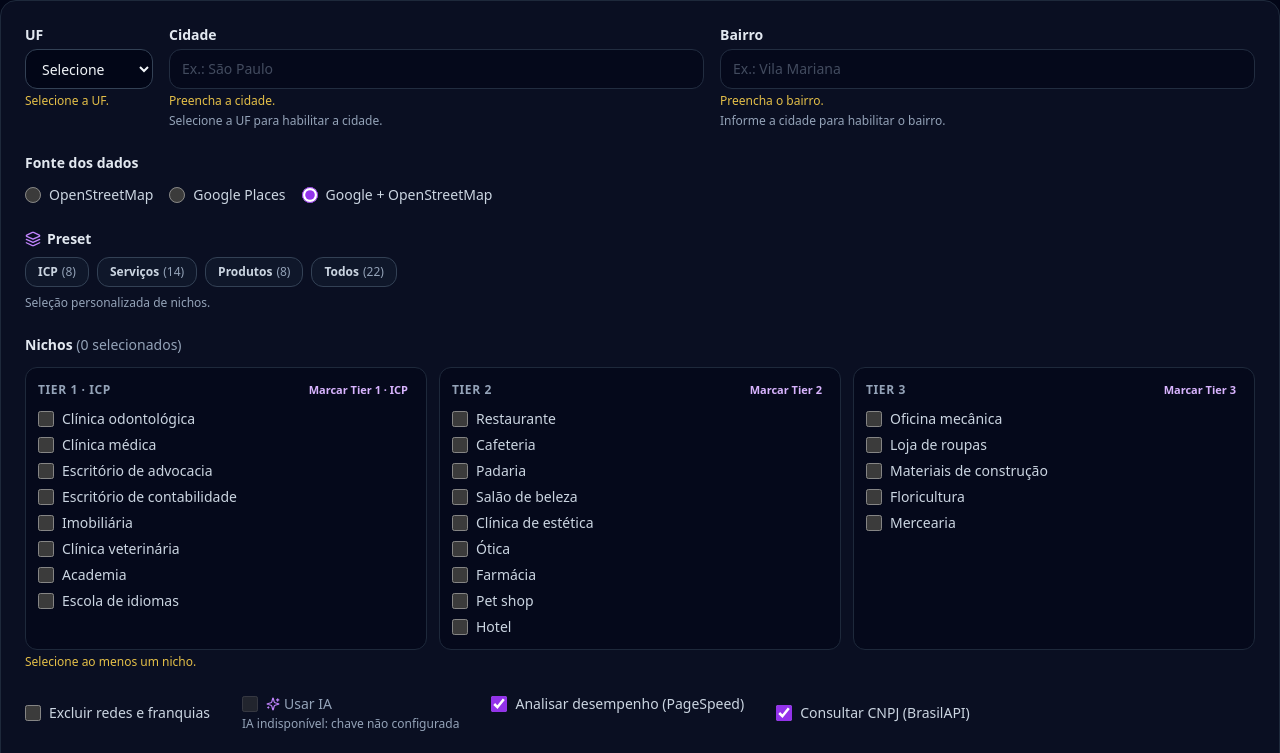
Scenario: MiningForm — cascata UF → Cidade → Bairro › busca cidades da UF escolhida e filtra sem acento e sem diferenciar maiúsculas
The image size is (1280, 753).
Select "SP" in the dropdown labelled "UF" at (89, 69), box [25,49,153,89]
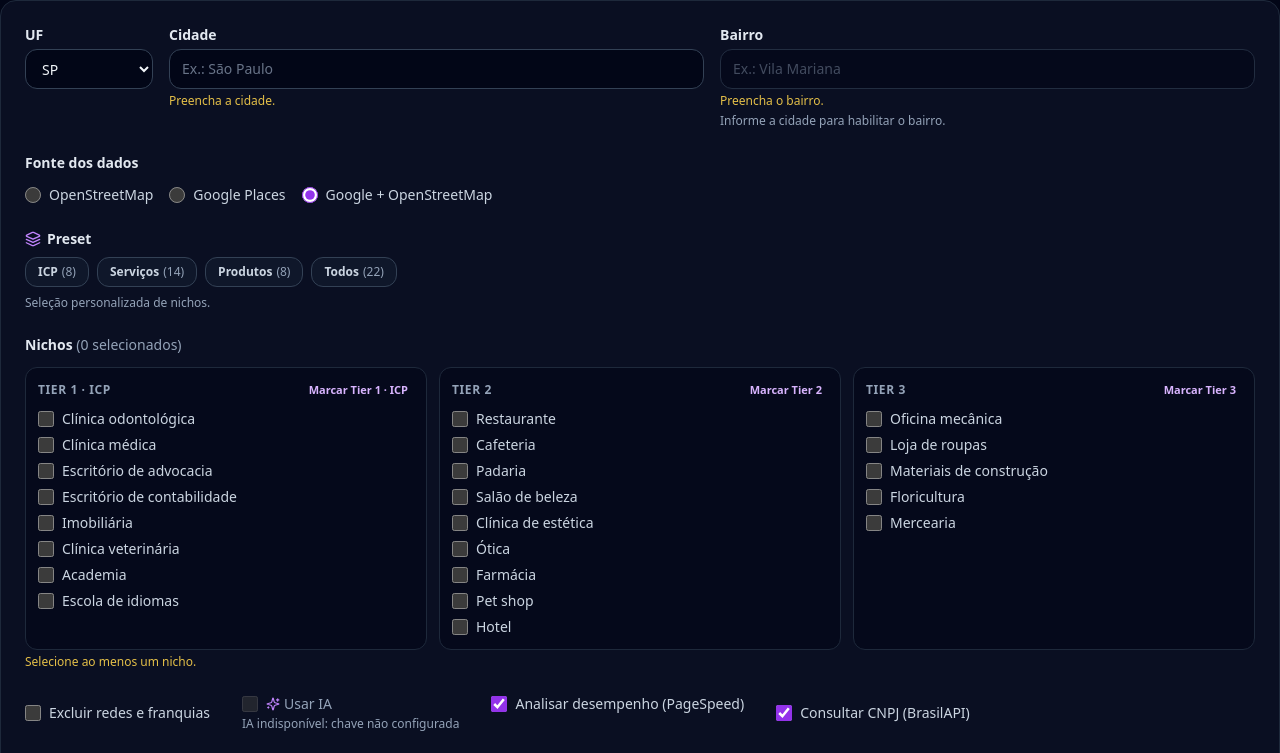
Type "SAO JO" into the dropdown labelled "Cidade" at (436, 69), box [169,49,704,89]
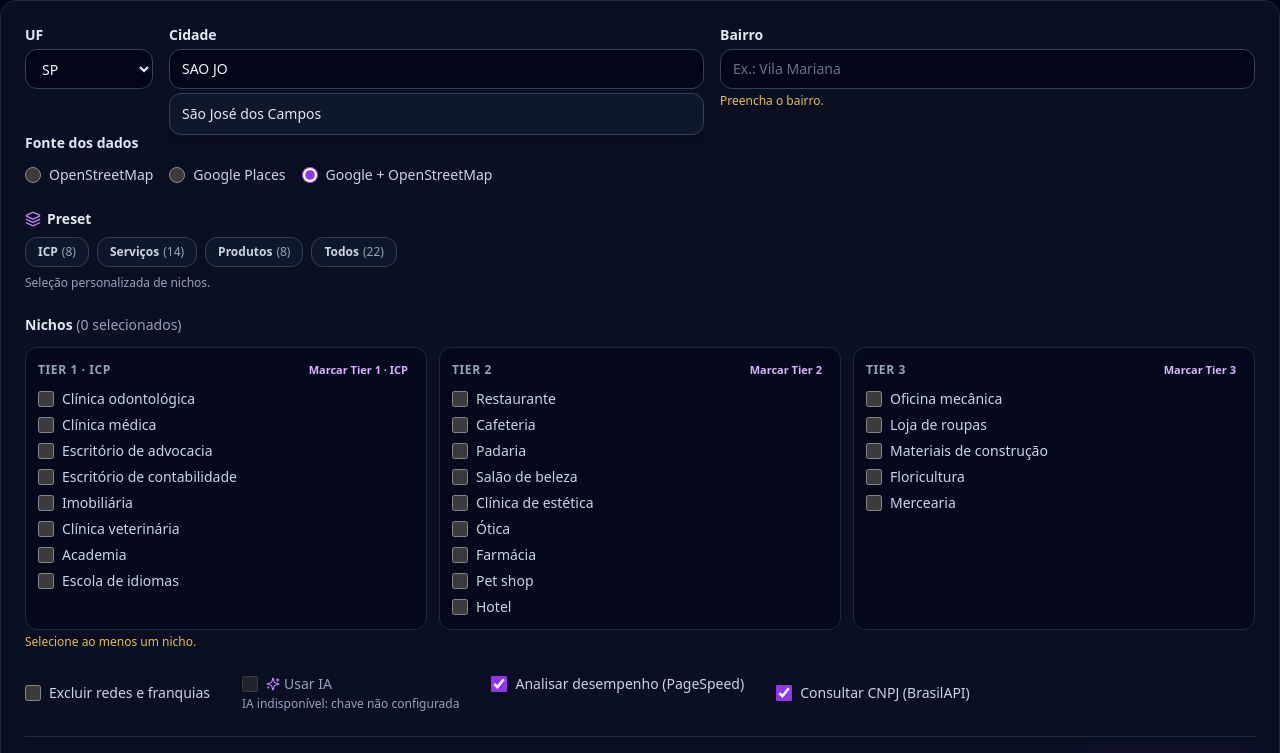
Result: the options read "São José dos Campos", in this order at [182,104,321,123]
